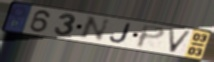3: (53, 13, 77, 37)
6: (29, 9, 52, 34)
J: (108, 23, 133, 45)
N: (76, 15, 112, 42)
P: (135, 24, 167, 50)
V: (167, 27, 194, 54)
